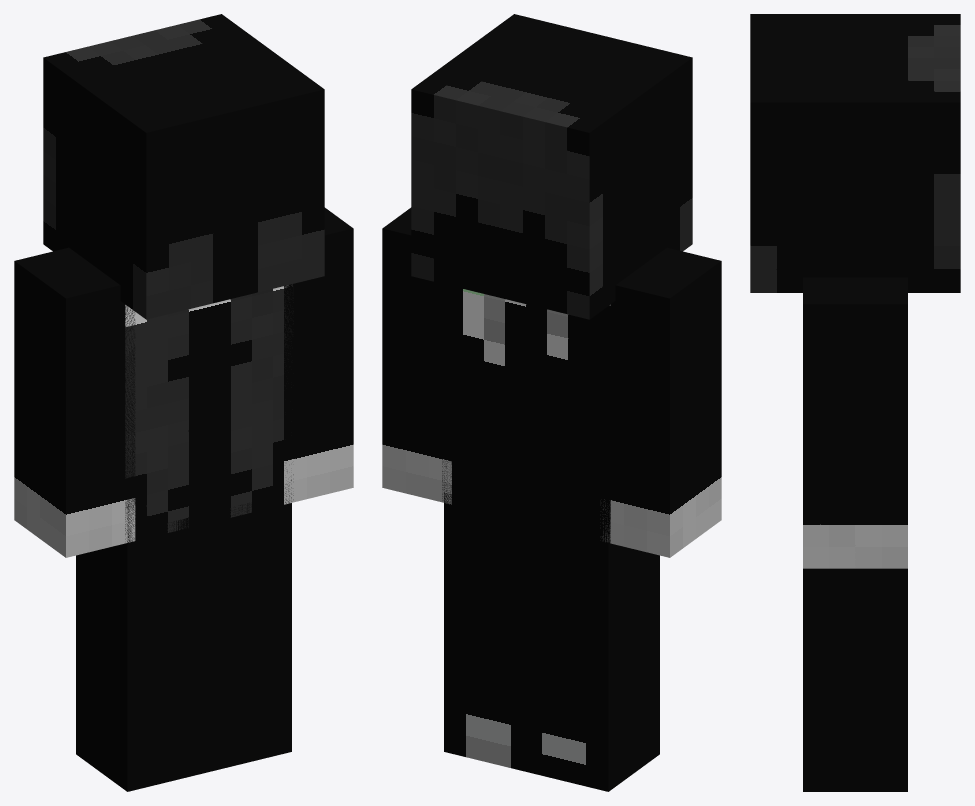
The model's file is alex_layer.obj.
3 renders of one model, left to right at view 1: azimuth 30°, elevation 25°; view 2: azimuth 150°, elevation 25°; view 3: azimuth 270°, elevation 25°, orthographic.
Visible parts, largest first — view 1: Hat Layer, Body Layer, Left Leg Layer, Left Arm Layer, Right Leg Layer, Right Arm Layer; view 2: Hat Layer, Body Layer, Left Leg Layer, Left Arm Layer, Right Leg Layer, Right Arm Layer; view 3: Hat Layer, Right Arm Layer, Right Leg Layer.
Part boxes in pixels (left/top/right/bottom): Hat Layer: left=43, top=14, right=324, bottom=319; Body Layer: left=125, top=285, right=293, bottom=542; Left Leg Layer: left=76, top=511, right=216, bottom=791; Left Arm Layer: left=14, top=247, right=135, bottom=557; Right Leg Layer: left=202, top=494, right=291, bottom=772; Right Arm Layer: left=284, top=207, right=353, bottom=504; Hat Layer: left=411, top=14, right=692, bottom=319; Body Layer: left=442, top=284, right=610, bottom=543; Left Leg Layer: left=519, top=511, right=659, bottom=791; Left Arm Layer: left=601, top=247, right=721, bottom=557; Right Leg Layer: left=444, top=492, right=533, bottom=772; Right Arm Layer: left=382, top=207, right=451, bottom=504; Hat Layer: left=750, top=14, right=960, bottom=292; Right Arm Layer: left=803, top=277, right=907, bottom=568; Right Leg Layer: left=803, top=568, right=907, bottom=791.
Size of the model in its own units: 0.9062 by 2.05 by 0.5625.
